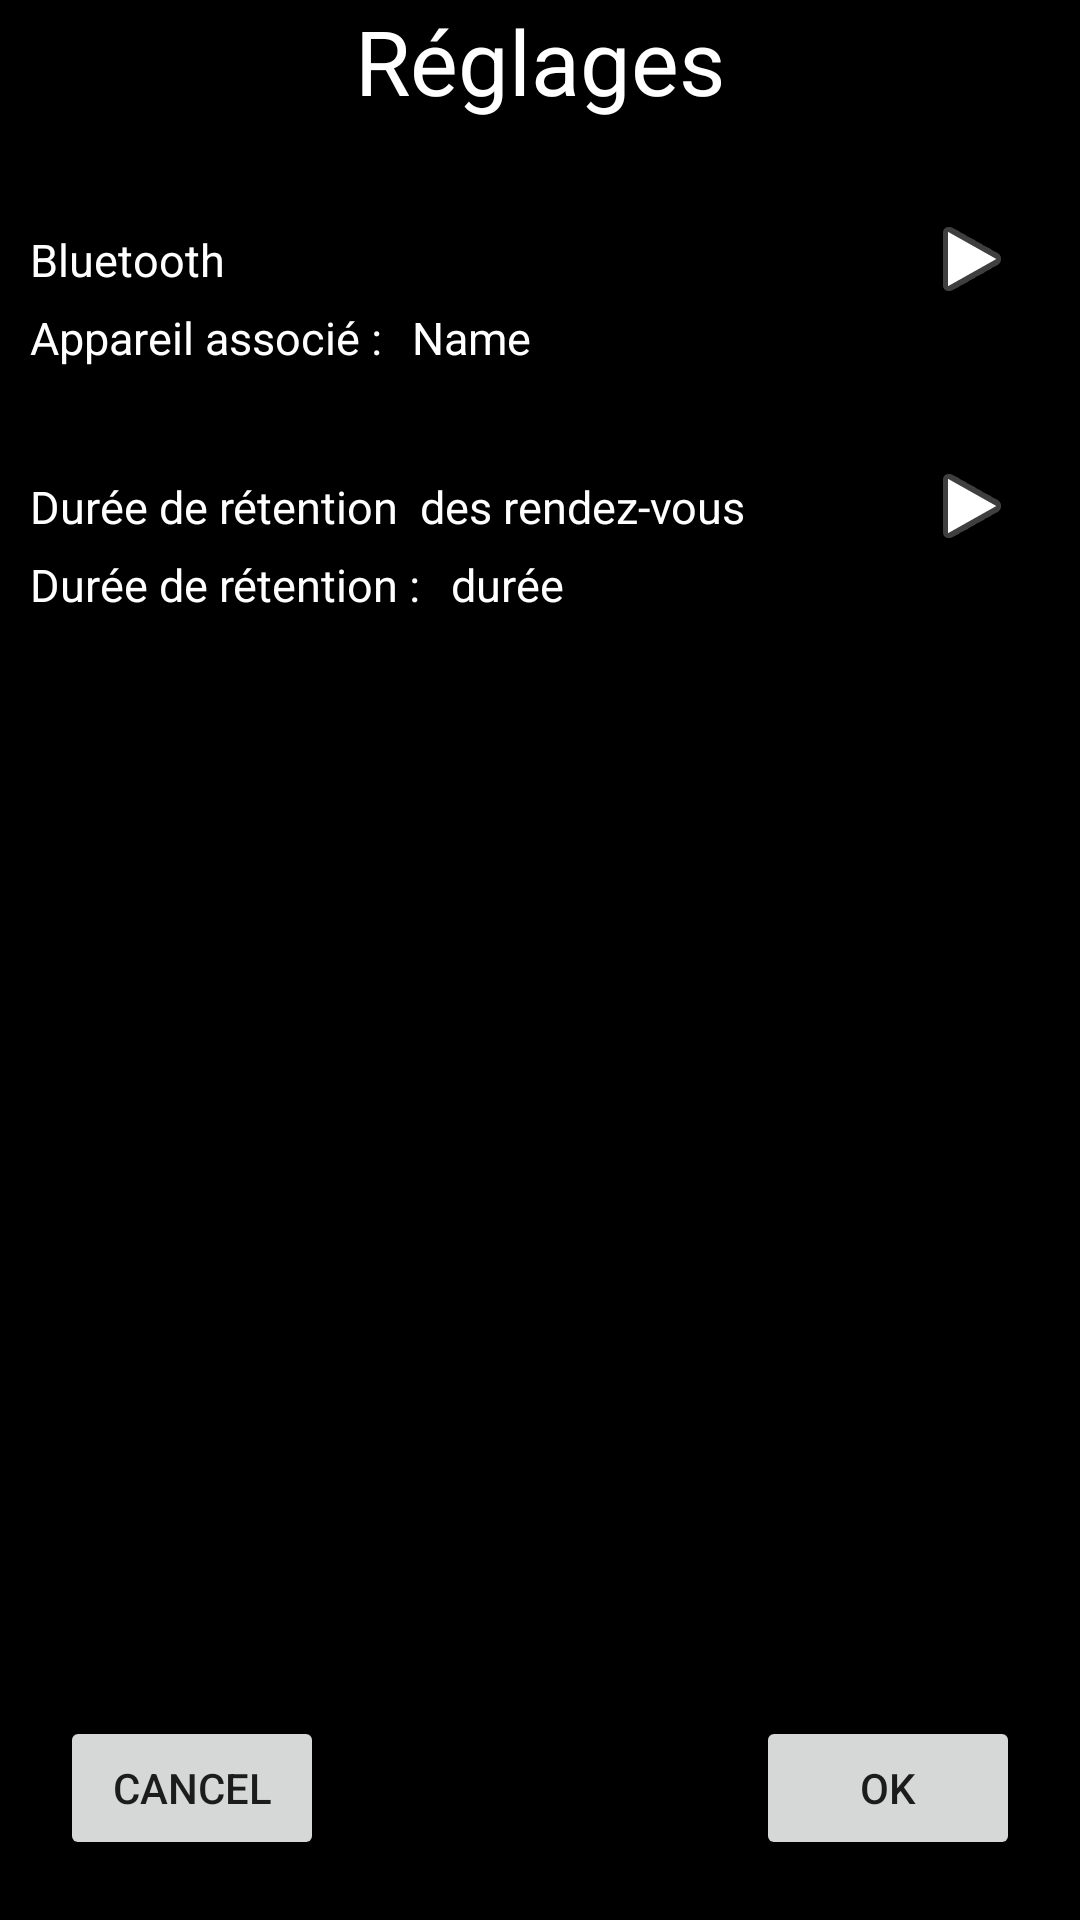

Where to tap for icons on this 1080px×1920px app screen, as (x=x, y=y):
play: (x=972, y=259), (x=972, y=506)
